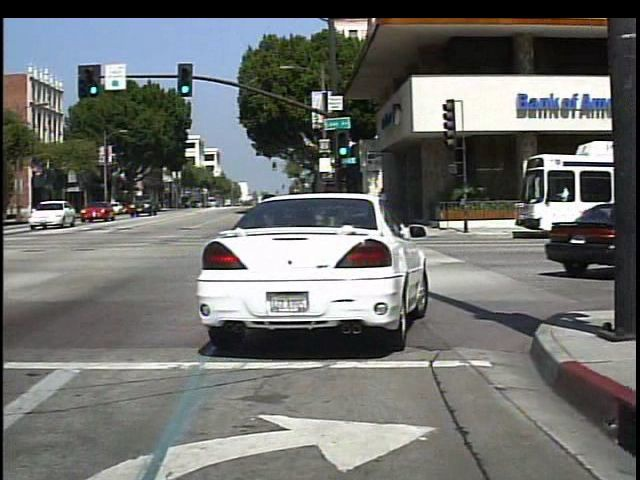person: (375, 183, 393, 224)
